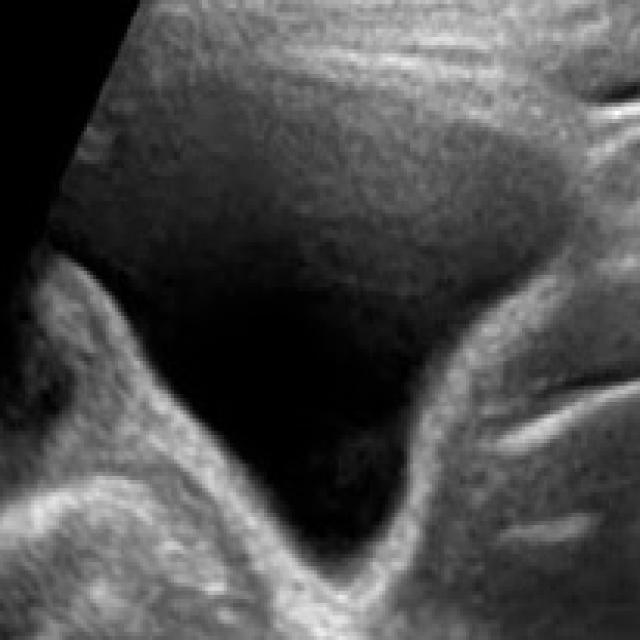bladder: (37, 21, 593, 618)
